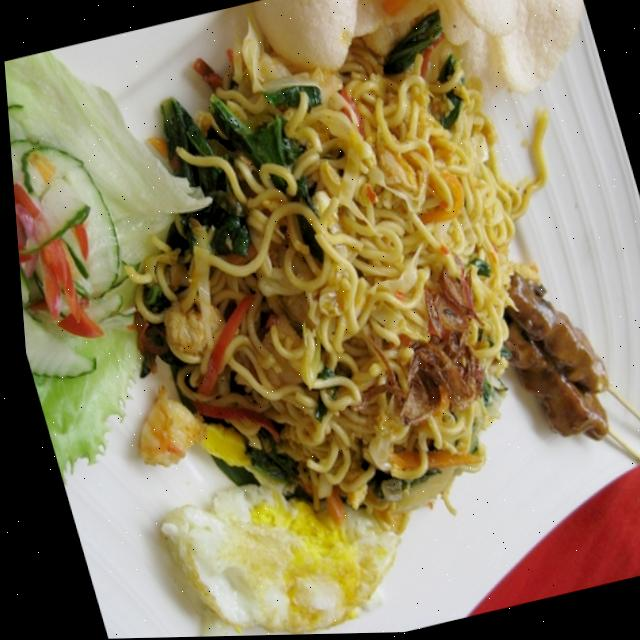面条主食: (3, 0, 640, 637)
